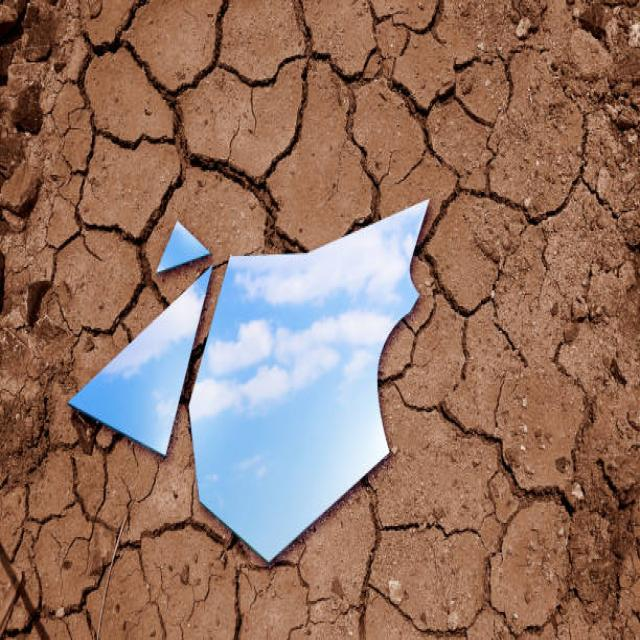PecahanKaca: (187, 194, 429, 560), (72, 262, 209, 450), (156, 217, 211, 265)
